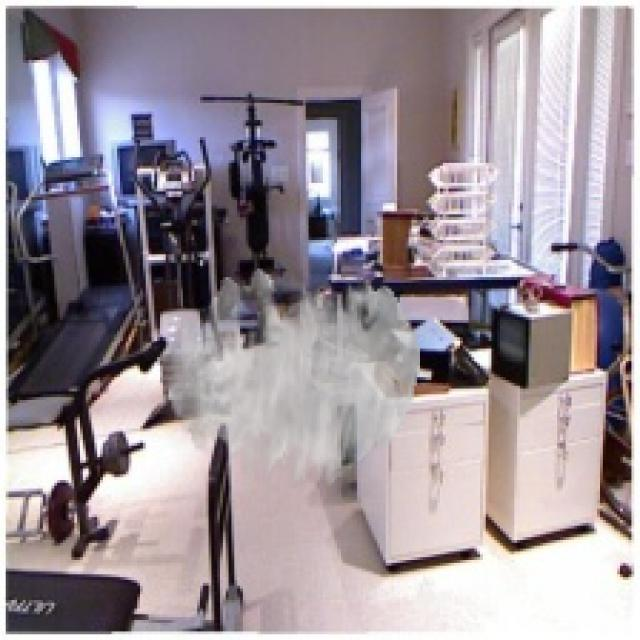Smoke: (168, 268, 420, 488)
